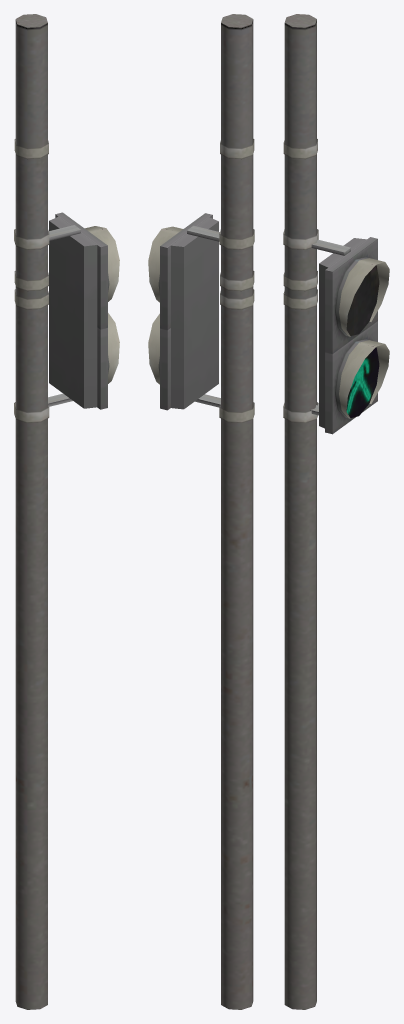
The model's file is ped_light_green.fbx.
3 views of the same model, side by side, from view 1: azimuth 30°, elevation 25°; view 2: azimuth 150°, elevation 25°; view 3: azimuth 330°, elevation 25° (orthographic).
Parts seen in each view (by area): view 1: Vis1 01, _pedes_lgt_2 01; view 2: Vis1 01, _pedes_lgt_2 01; view 3: Vis1 01, _pedes_lgt_2 01, _pedes_lgt_2 02.
Part boxes in pixels (x1=…): Vis1 01: x1=14, y1=14, x2=48, y2=1009; _pedes_lgt_2 01: x1=14, y1=212, x2=119, y2=422; Vis1 01: x1=220, y1=14, x2=254, y2=1009; _pedes_lgt_2 01: x1=148, y1=213, x2=254, y2=422; Vis1 01: x1=283, y1=14, x2=317, y2=1009; _pedes_lgt_2 01: x1=283, y1=229, x2=389, y2=434; _pedes_lgt_2 02: x1=346, y1=265, x2=379, y2=418.
Bounding box in the file's own units: 0.3764 × 3.89 × 0.3254.
